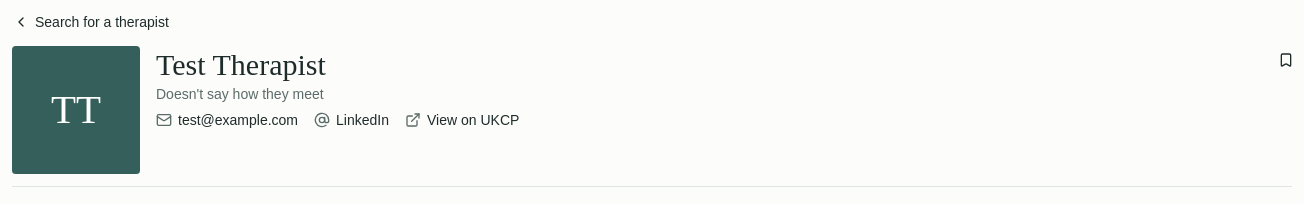
Test: ProfilePage's contact offer › marks nothing on Not now, gives focus back to the link, and asks again once it is followed again
The width and height of the screenshot is (1304, 204).
Check: the heading "Test Therapist" is shown, box [156, 48, 326, 81]
Click the link with aria-label "Email: test@example.com": (227, 120) [156, 110, 298, 130]
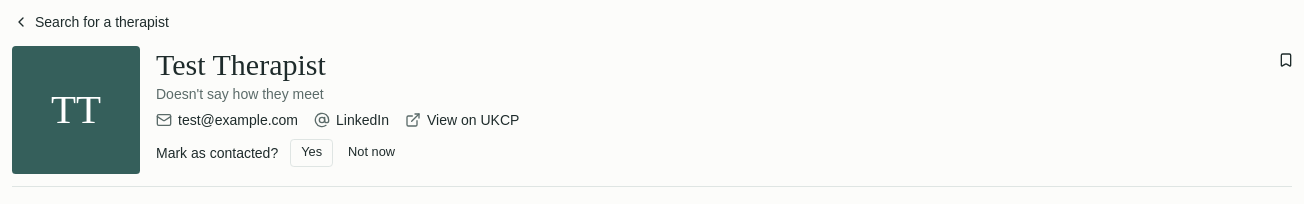
Click the button "Not now": (372, 152) [337, 138, 406, 166]
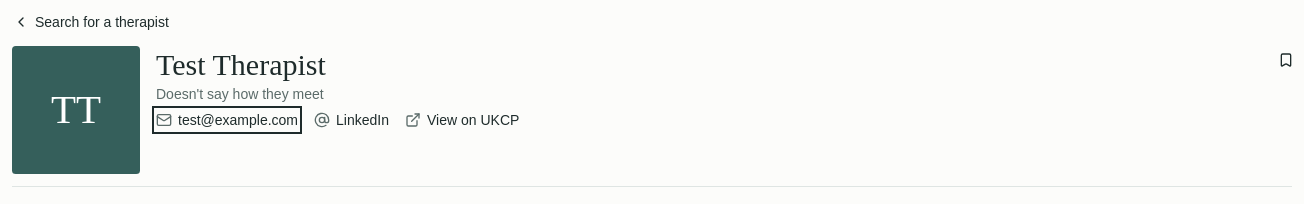
Check: the text "Mark as contacted?" is gone
Click the link with aria-label "Email: test@example.com": (227, 120) [156, 110, 298, 130]
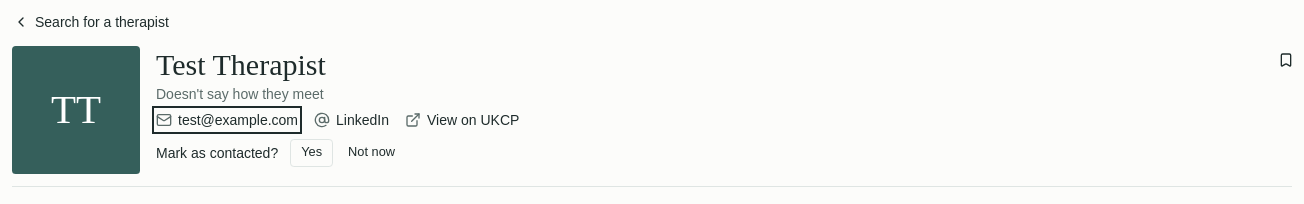
Check: the element "Mark as contacted?" is shown, box [156, 138, 406, 166]
